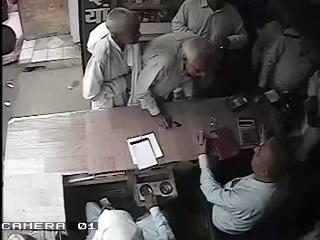Normal: (196, 126, 294, 239), (132, 32, 226, 128), (252, 0, 315, 96), (85, 184, 176, 240)
shoplifting: (81, 7, 142, 110)
